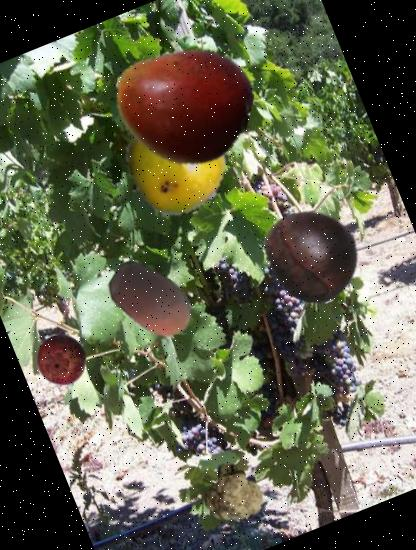Cauliflower: (192, 452, 271, 531)
Chestnut: (251, 192, 377, 318)
Hazelnut: (91, 240, 212, 361)
Mango: (92, 15, 270, 193)
Mangostan: (27, 325, 96, 394)
Maracuja: (103, 90, 244, 231)
